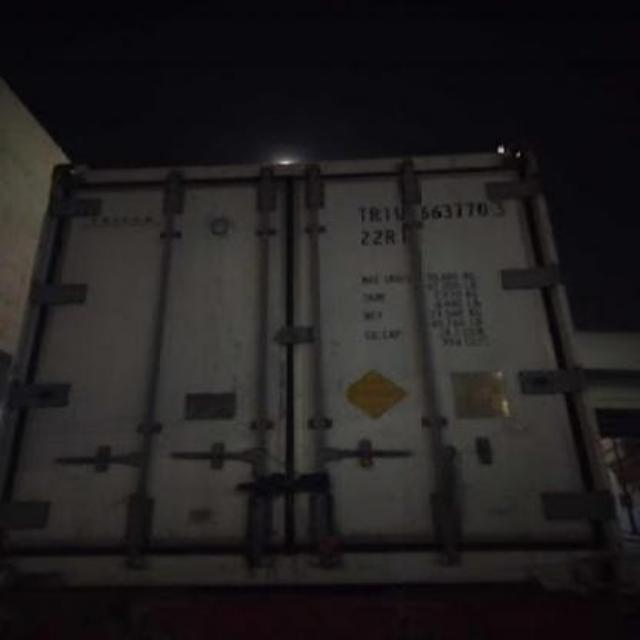0: (474, 196, 486, 222)
3: (488, 196, 506, 224), (440, 200, 452, 224)
6: (416, 204, 428, 226), (430, 200, 440, 223)
7: (452, 200, 464, 224), (464, 198, 474, 224)
I: (382, 205, 390, 223)
R: (368, 202, 380, 225)
T: (356, 201, 368, 227)
U: (391, 200, 404, 222)
